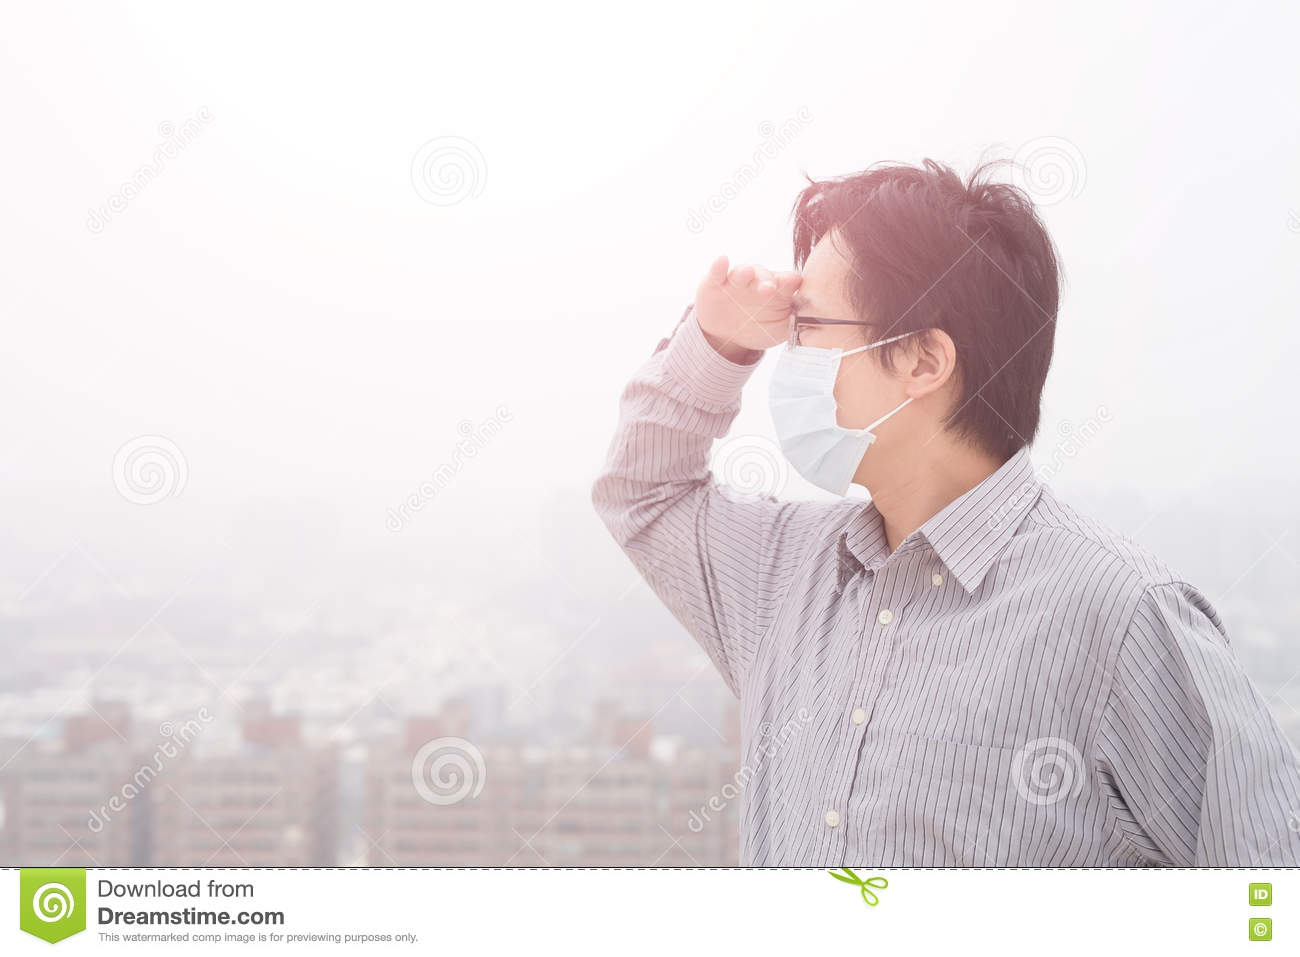mask: (751, 345, 889, 496)
